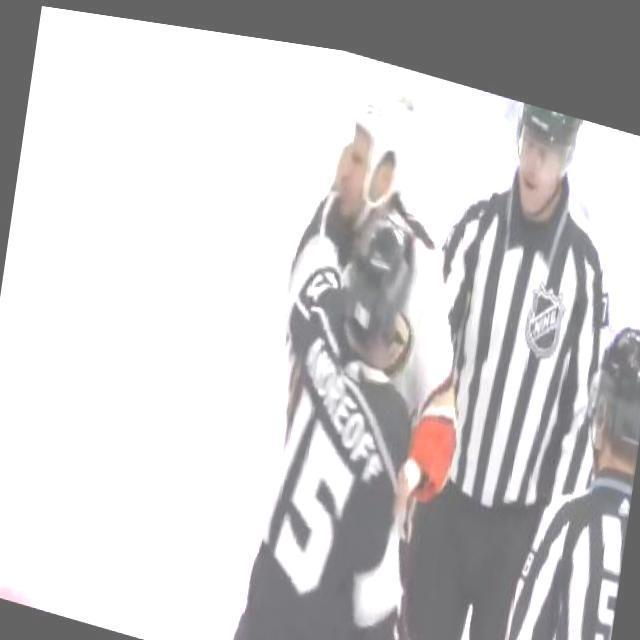fight: (226, 31, 510, 640)
